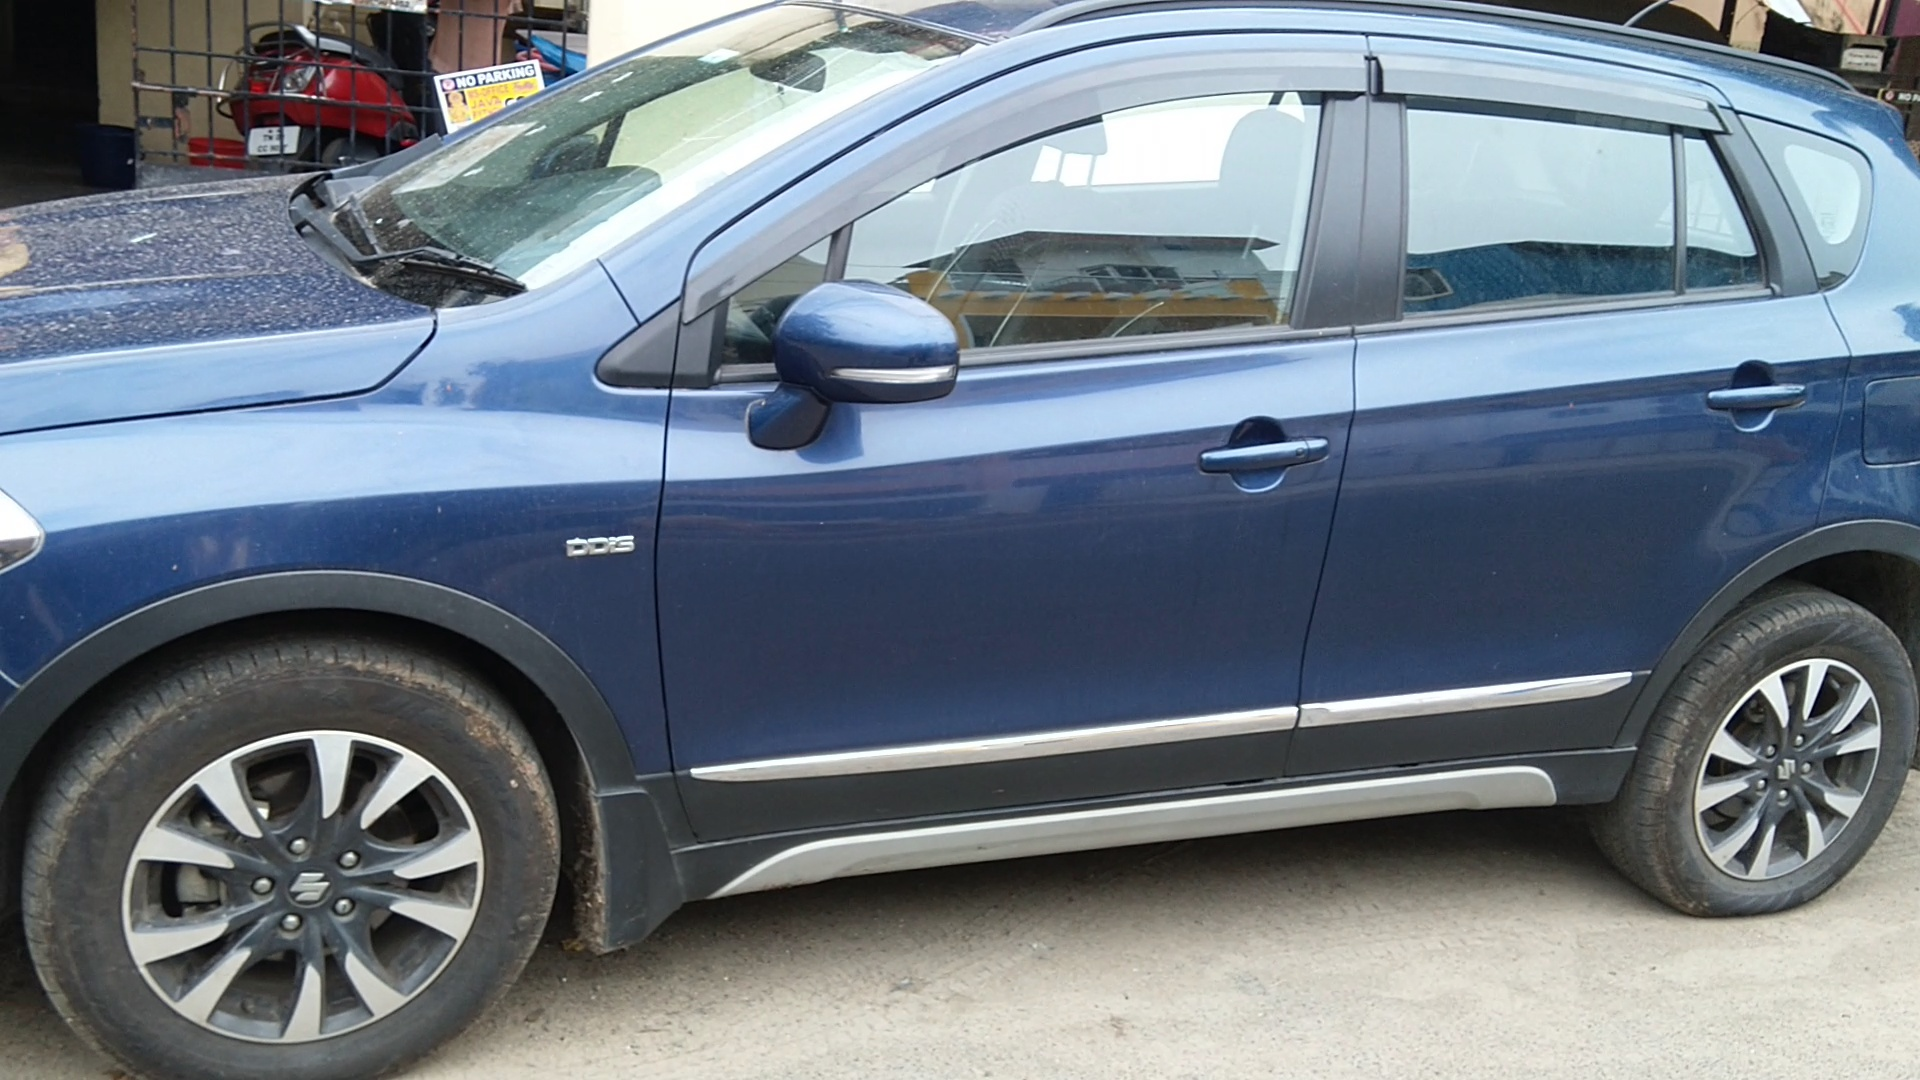alloy_wheel: (29, 640, 545, 1080), (1633, 608, 1913, 924)
ovr_mirror: (732, 272, 971, 469)
